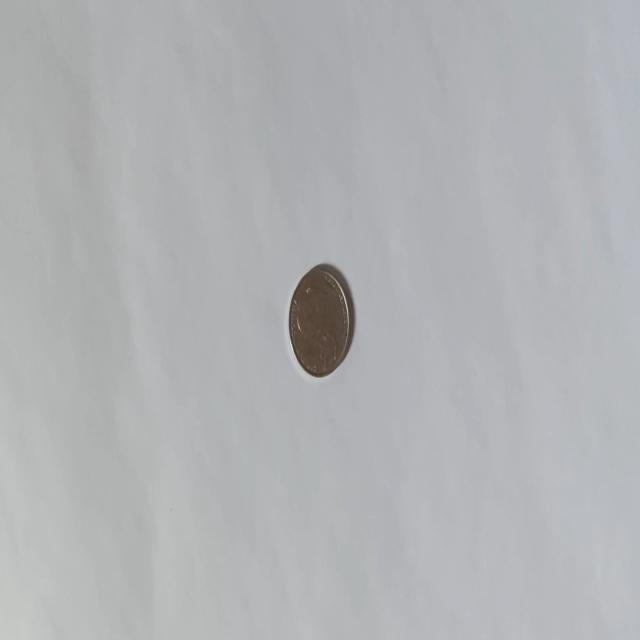seribu rupiah koin: (286, 262, 352, 379)
